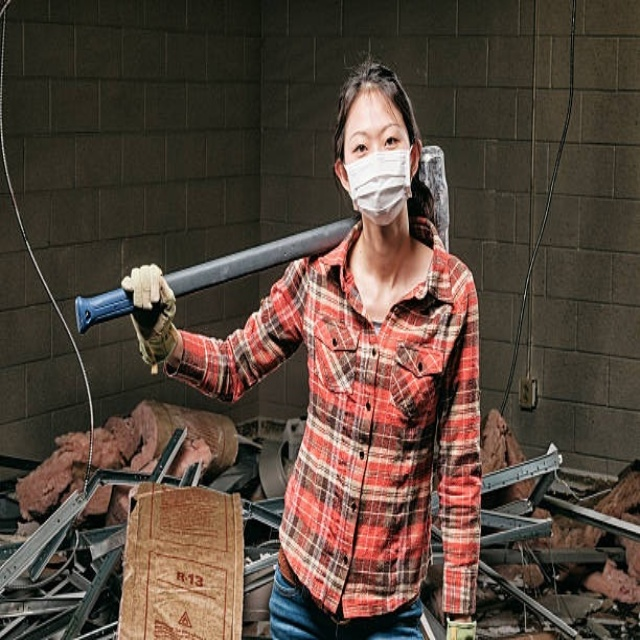Guantes: (121, 264, 183, 372)
Mascara: (344, 145, 414, 223)
Sin_gafas: (346, 116, 406, 157)
